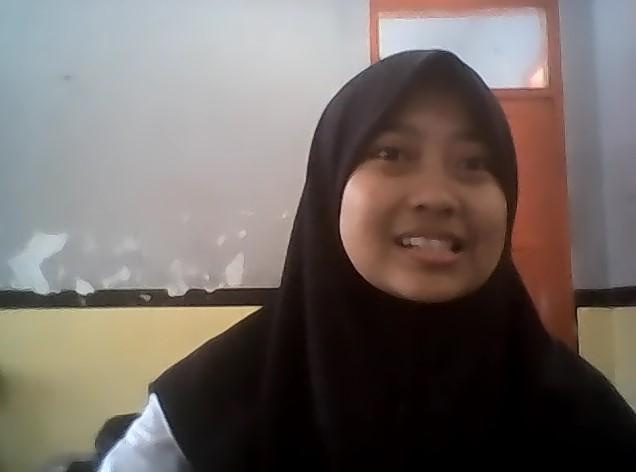cheating: (86, 40, 632, 472)
